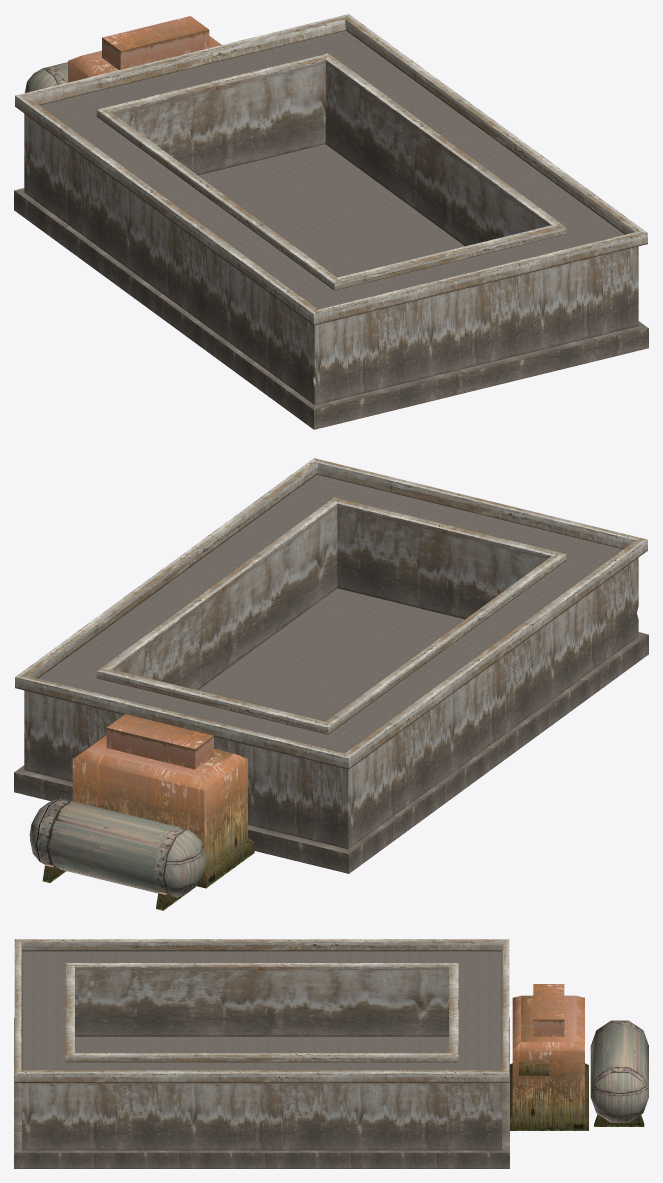
The model's file is pool_lod1.fbx.
3 renders of one model, top to bottom at view 1: azimuth 30°, elevation 25°; view 2: azimuth 150°, elevation 25°; view 3: azimuth 270°, elevation 25°, orthographic. The views are drawn at different scales.
Visible parts, largest first — view 1: Mesh Object; view 2: Mesh Object; view 3: Mesh Object.
Part boxes in pixels (x1,y1,x2,y2): Mesh Object: (14, 14, 648, 429); Mesh Object: (14, 458, 648, 910); Mesh Object: (14, 939, 648, 1168).
Size of the model in its own units: 10.09 by 3.51 by 20.04.
